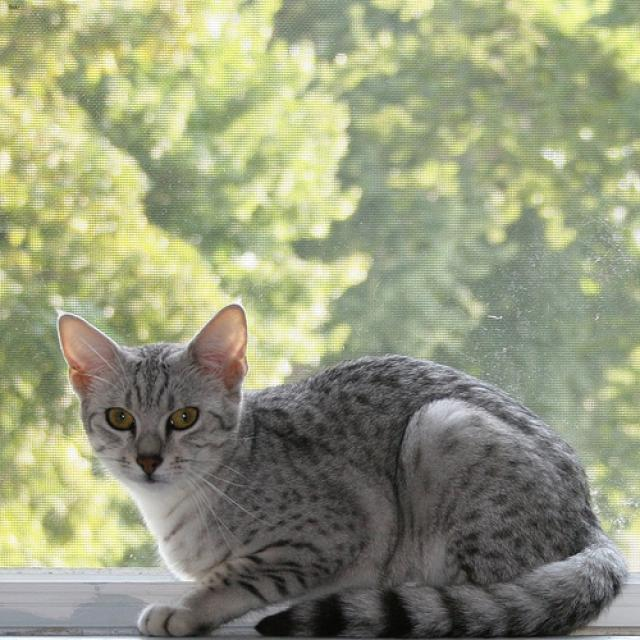Egyptian_Mau: (55, 305, 251, 497)
